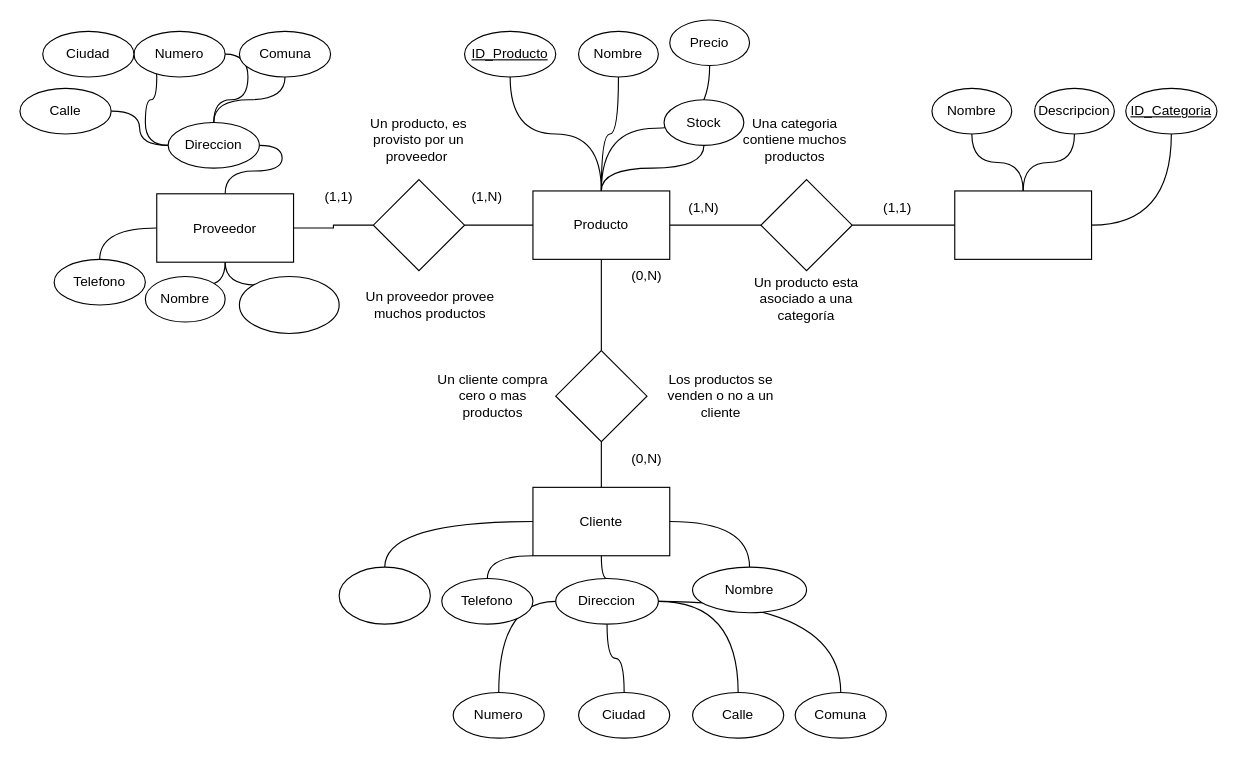
This 1237x758 diagram has some shape labels left out. The shapes that lost their labels are listed below. From the top down, each one's centre as x and y in pixels, then its label:
At point 418,224: "Provee".
At point 806,224: "Asociado a".
At point 1023,224: "Categoria".
At point 288,304: "Rut_proveedor".
At point 601,395: "Venta".
At point 384,595: "Rut_Cliente".
